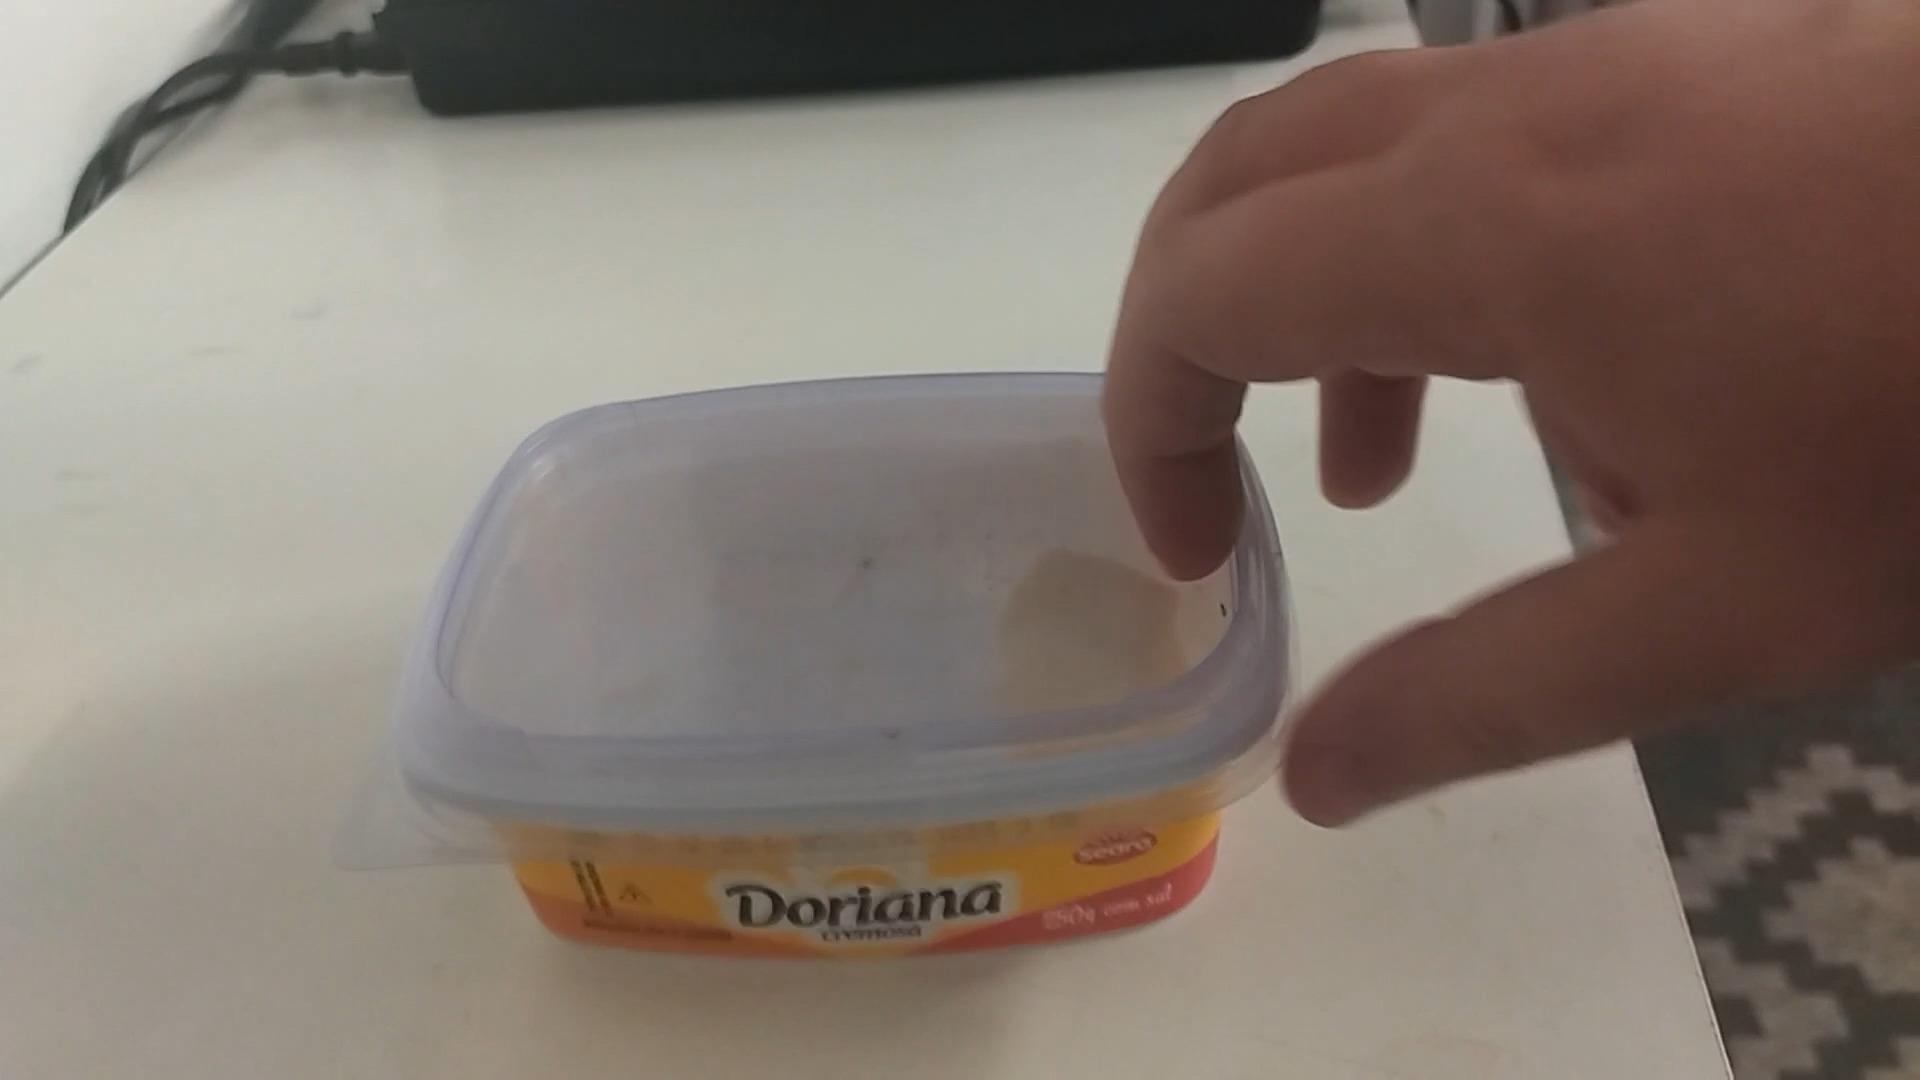butter: (372, 388, 1290, 959)
